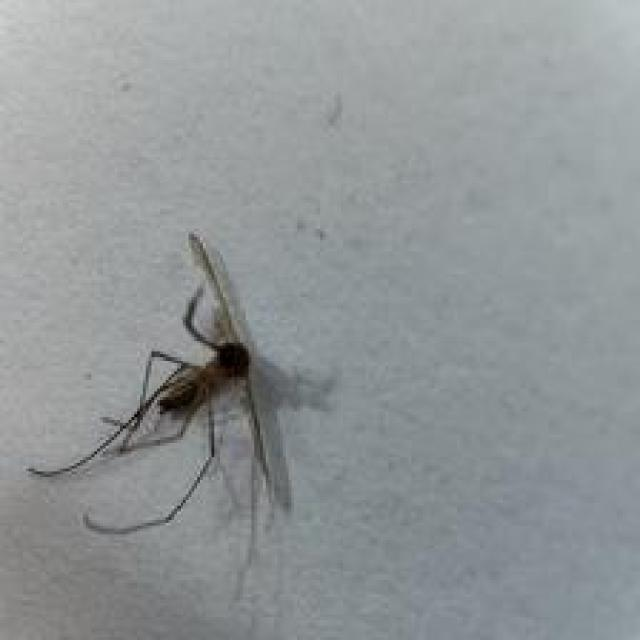Culex: (25, 229, 302, 600)
